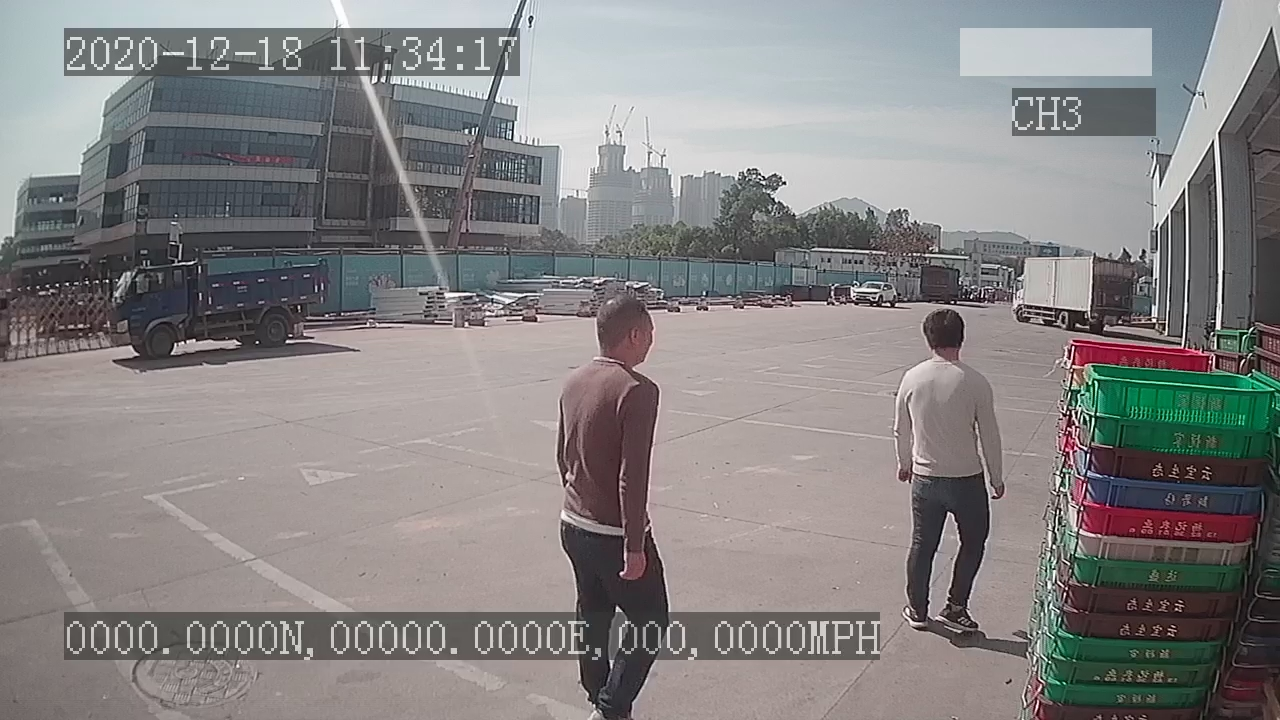person: (884, 304, 1007, 634)
